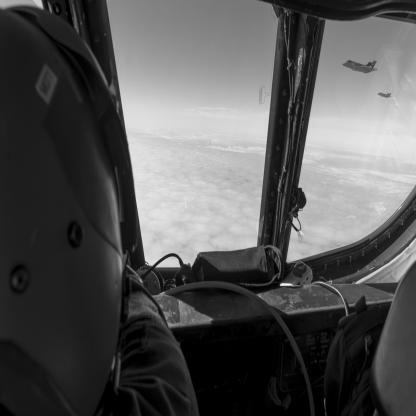F35: (343, 61, 379, 75), (378, 93, 393, 99)
